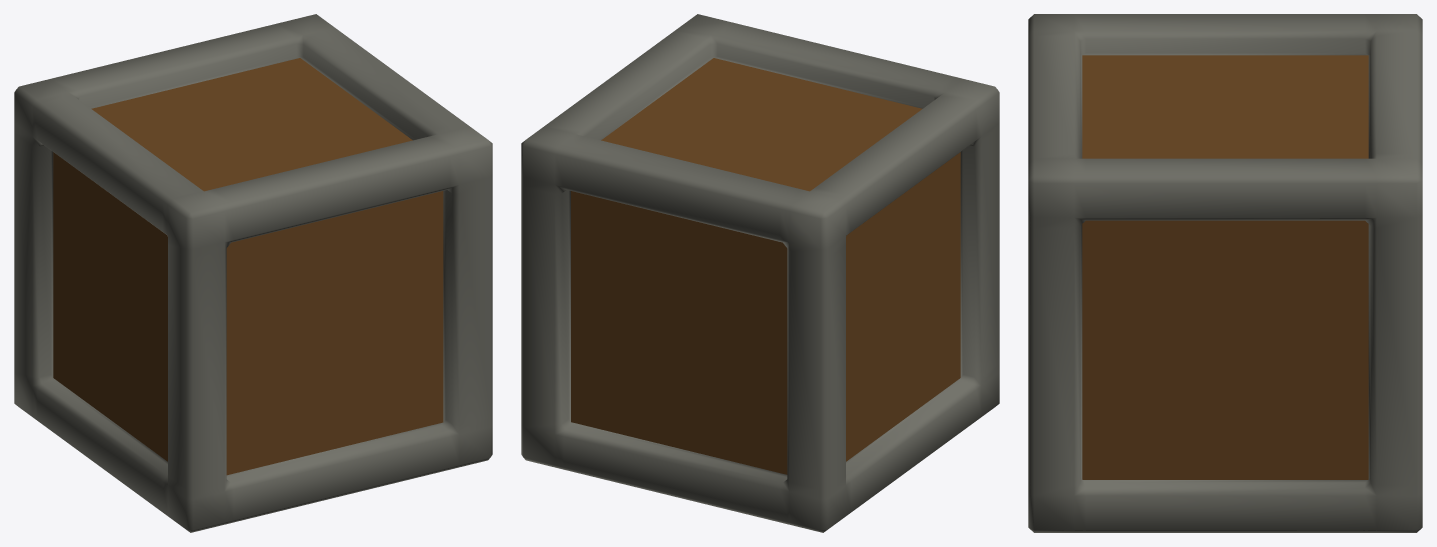
Rendered from Final Crate for Unity.fbx.
3 renders of one model, left to right at view 1: azimuth 30°, elevation 25°; view 2: azimuth 150°, elevation 25°; view 3: azimuth 270°, elevation 25°, orthographic. The views are drawn at different scales.
Visible parts, largest first — view 1: Cube; view 2: Cube; view 3: Cube.
Part boxes in pixels (<box>): Cube: <box>14,14,492,532</box>; Cube: <box>521,14,999,532</box>; Cube: <box>1028,14,1422,532</box>.
Bounding box in the file's own units: 2 × 2 × 2.
